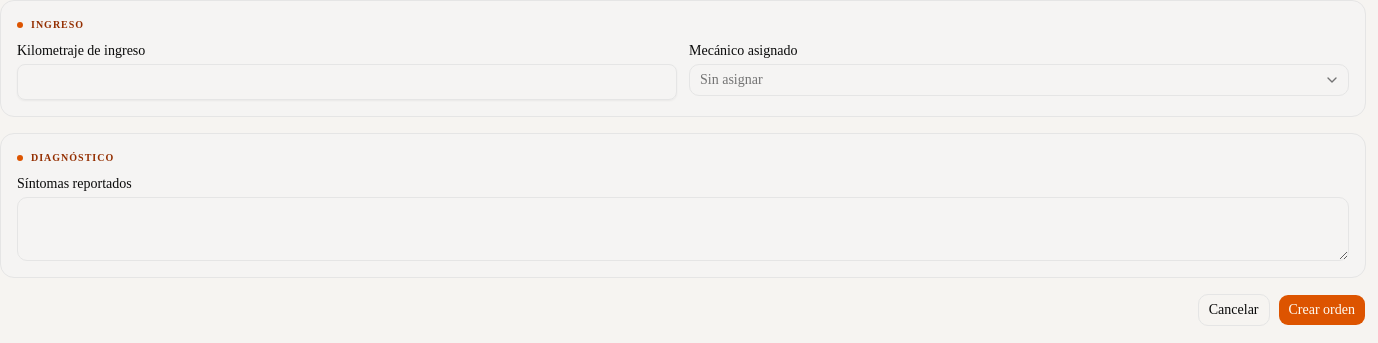
Test: NuevaOrdenForm › renders the kilometraje, síntomas, and mecánico fields
Check: the text box labelled "Síntomas reportados" is shown, box [17,197,1349,261]
Click the dropdown named "Mecánico asignado": click(731, 80) [689,64,1349,96]
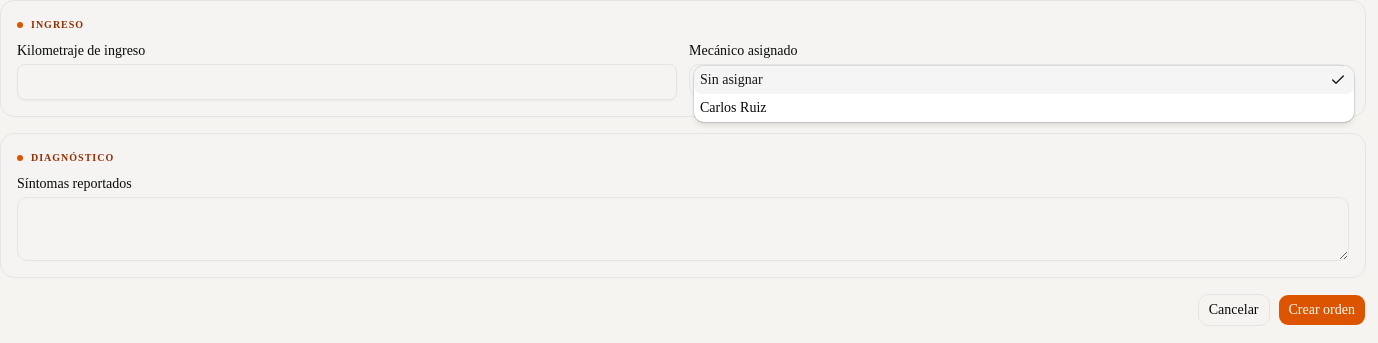
Check: the option "Carlos Ruiz" is shown, box [700,100,766,115]
